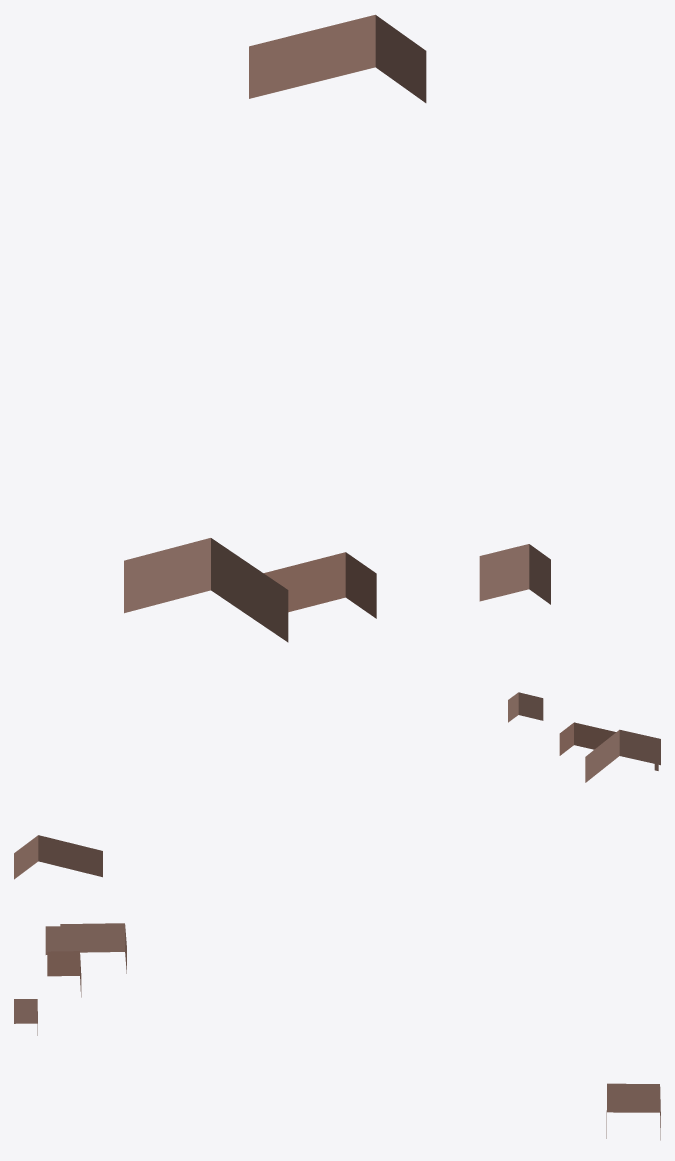
The model's file is c_1631_17821_buildings_residential.glb.
3 renders of one model, top to bottom at view 1: azimuth 30°, elevation 25°; view 2: azimuth 150°, elevation 25°; view 3: azimuth 270°, elevation 25°, orthographic. The views are drawn at different scales.
Parts seen in each view (by area): view 1: geometry_0; view 2: geometry_0; view 3: geometry_0.
Part boxes in pixels (x1,y1,x2,y2): geometry_0: (124,14,550,642); geometry_0: (14,692,660,879); geometry_0: (14,923,660,1140).
Size of the model in its own units: 163 by 12.24 by 224.
